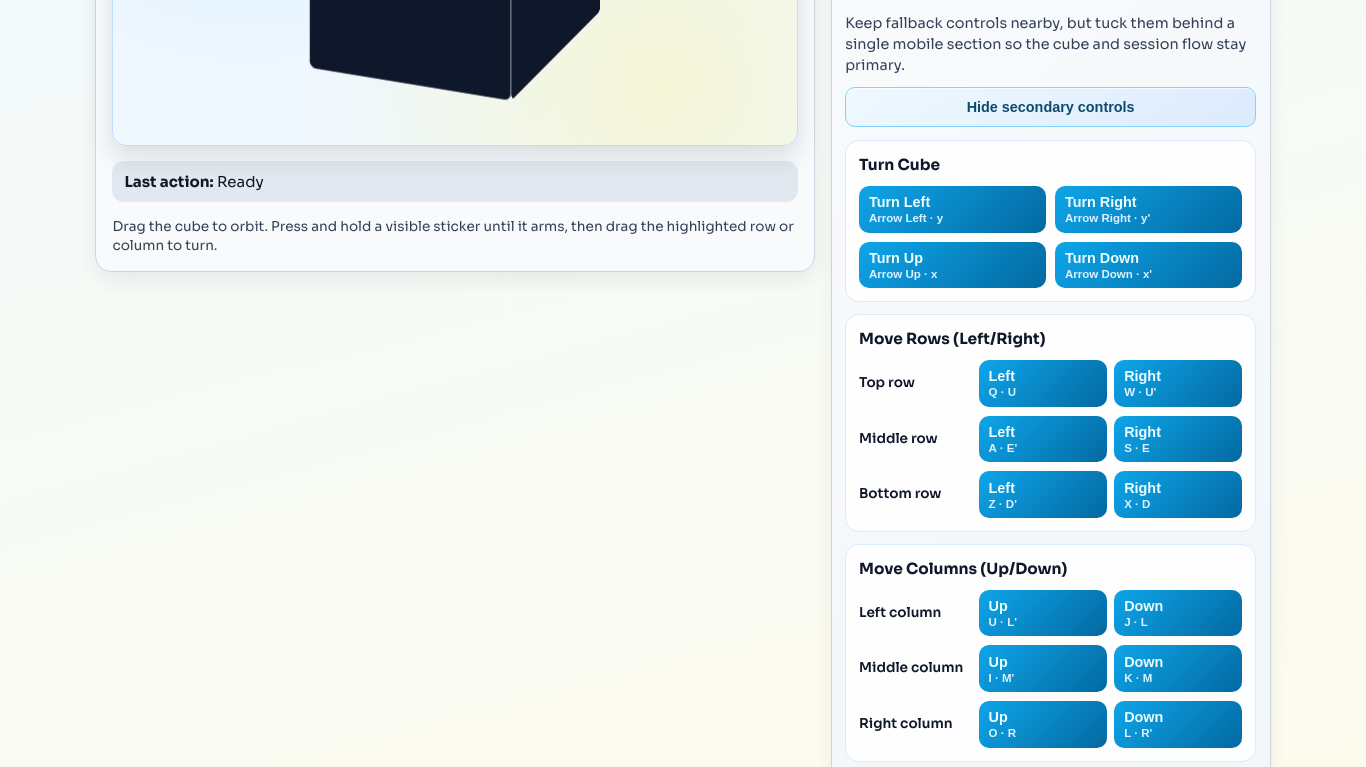
Test case: App smoke flows › maps top-row buttons to expected directions
The image size is (1366, 767).
(page scrolled)
Click the button "Left Q · U": (1043,383) [979,360,1107,407]
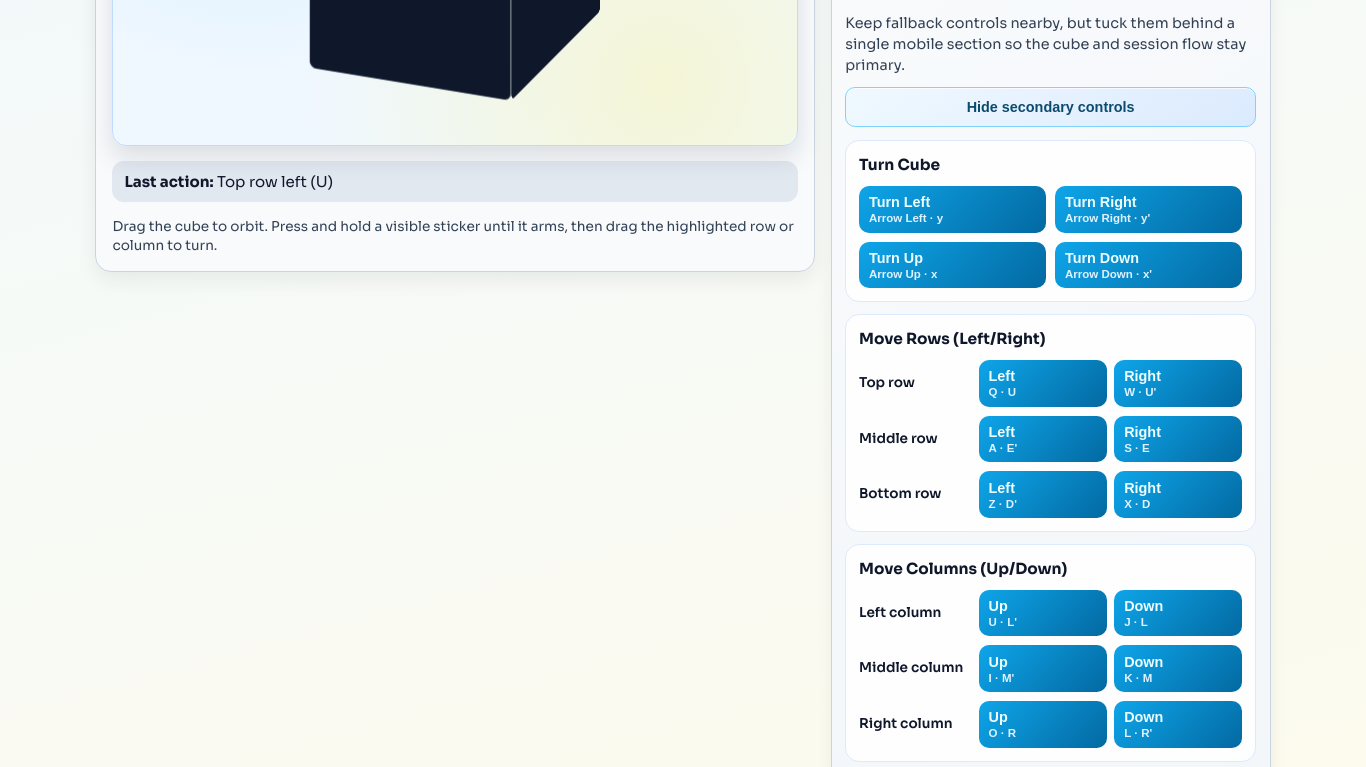
expect the text "Last action: Top row left (U)" is shown: met, box [112,161,798,202]
Click the button "Right W · U'": (1178,383) [1114,360,1242,407]
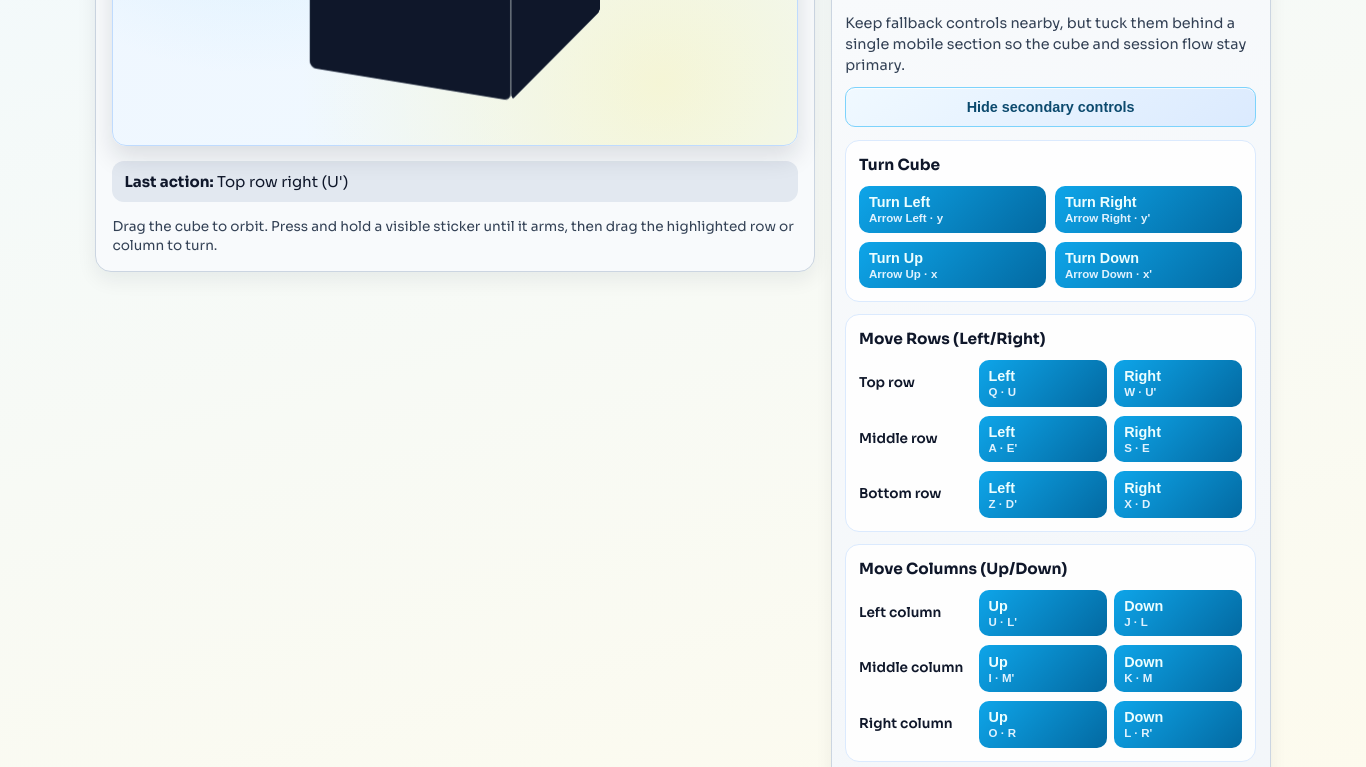
expect the text "Last action: Top row right (U')" is shown: met, box [112,161,798,202]
